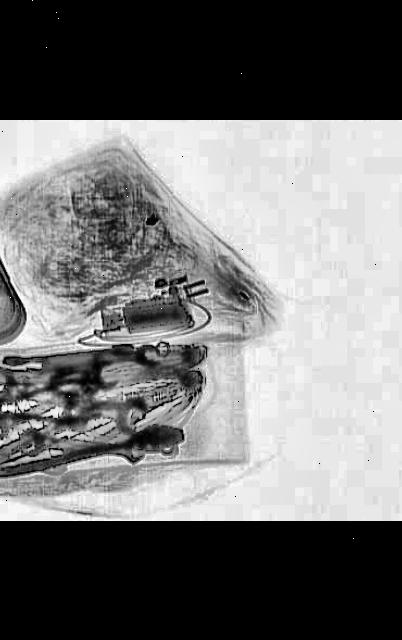Pliers: (4, 372, 194, 466)
Wrench: (0, 356, 121, 395), (0, 416, 72, 481), (30, 429, 148, 466), (0, 393, 67, 445)
